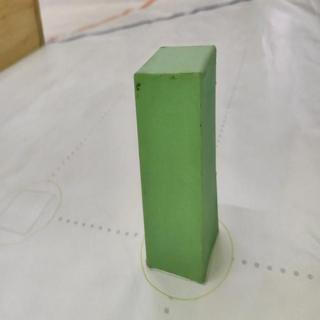greenbox: (132, 43, 218, 285)
